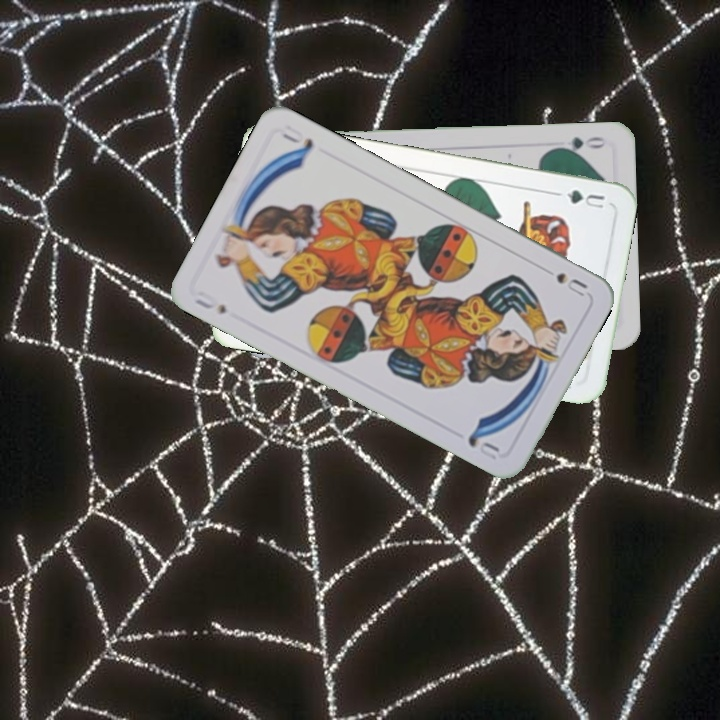GO: (550, 132, 609, 157)
GU: (562, 185, 607, 211)
SU: (552, 268, 590, 299), (191, 286, 229, 317)
